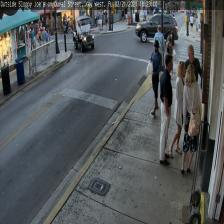person: (179, 64, 199, 178), (184, 44, 202, 150), (168, 60, 186, 156), (159, 54, 174, 164), (148, 40, 162, 116)
